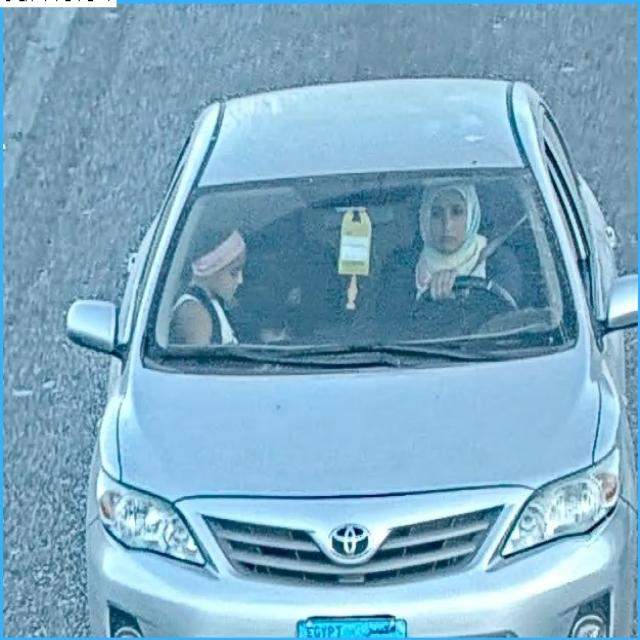windshield: (150, 174, 564, 361)
